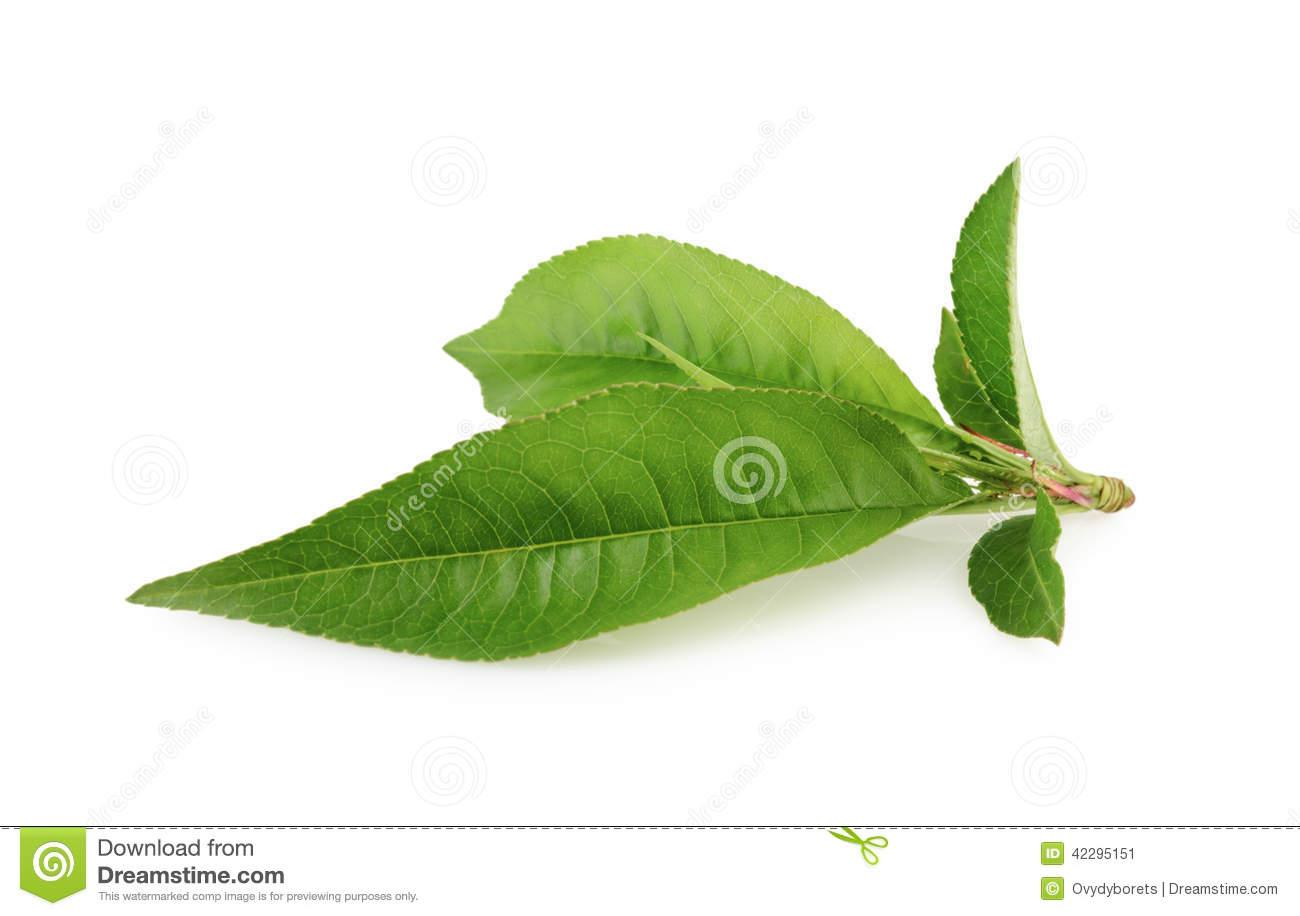Peach leaf: (96, 380, 975, 670), (431, 209, 946, 484), (952, 145, 1063, 452), (961, 476, 1077, 652)
